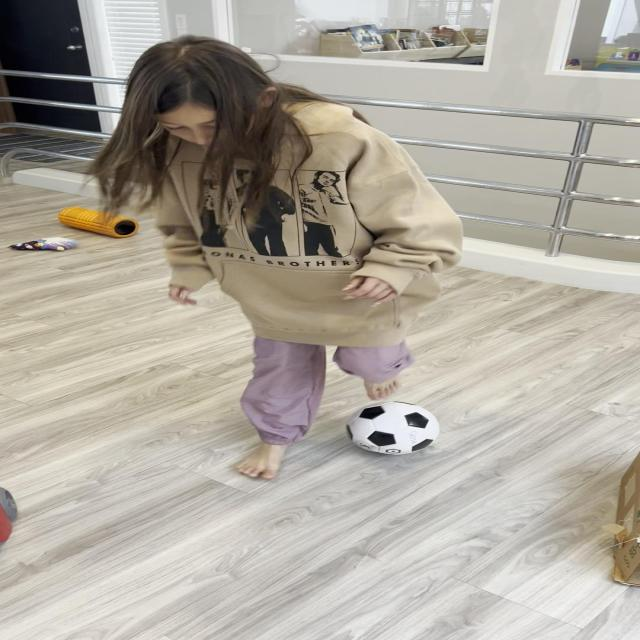Soccer Ball: (342, 401, 440, 455)
